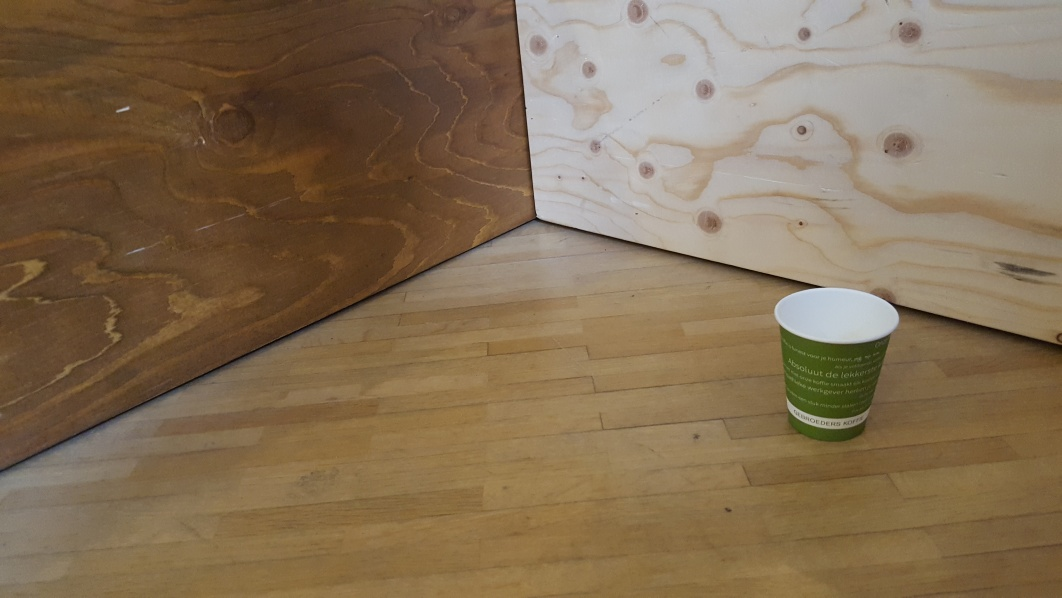cup: (771, 286, 900, 443)
